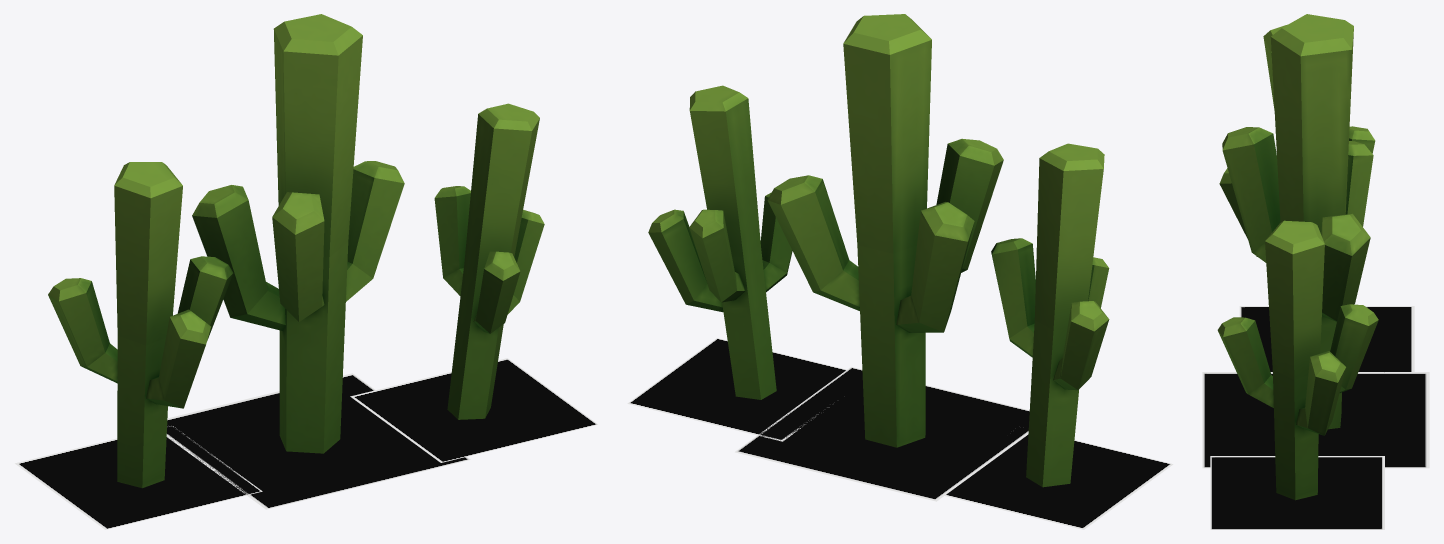
Rendered from 3x1_cactus.FBX.
The picture shows the model from 3 angles, left to right: view 1: azimuth 30°, elevation 25°; view 2: azimuth 150°, elevation 25°; view 3: azimuth 270°, elevation 25°; orthographic projection. The views are drawn at different scales.
Visible parts, largest first — view 1: 3x1_cactus, 3x1_cactus_soft_shadow; view 2: 3x1_cactus, 3x1_cactus_soft_shadow; view 3: 3x1_cactus, 3x1_cactus_soft_shadow.
Part boxes in pixels (box(x1,y1,x2,y2)): 3x1_cactus: box(48, 14, 544, 488); 3x1_cactus_soft_shadow: box(15, 358, 597, 529); 3x1_cactus: box(648, 14, 1109, 487); 3x1_cactus_soft_shadow: box(627, 338, 1173, 529); 3x1_cactus: box(1217, 14, 1378, 500); 3x1_cactus_soft_shadow: box(1202, 306, 1429, 529).
Size of the model in its own units: 2772 by 2314 by 1180.
